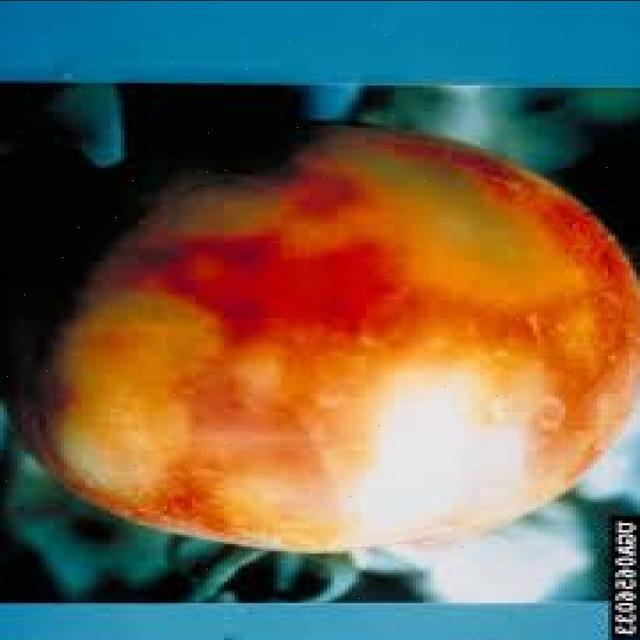Spotted wilt Virus Fruit: (222, 116, 632, 270)
